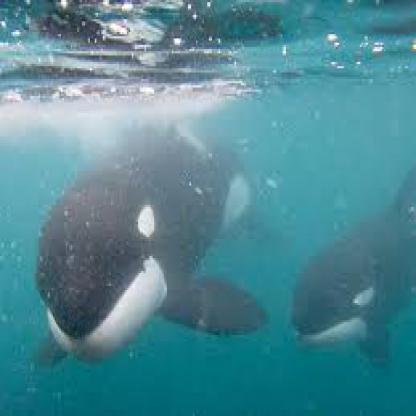killer_whale: (18, 107, 276, 412), (286, 132, 414, 380)
